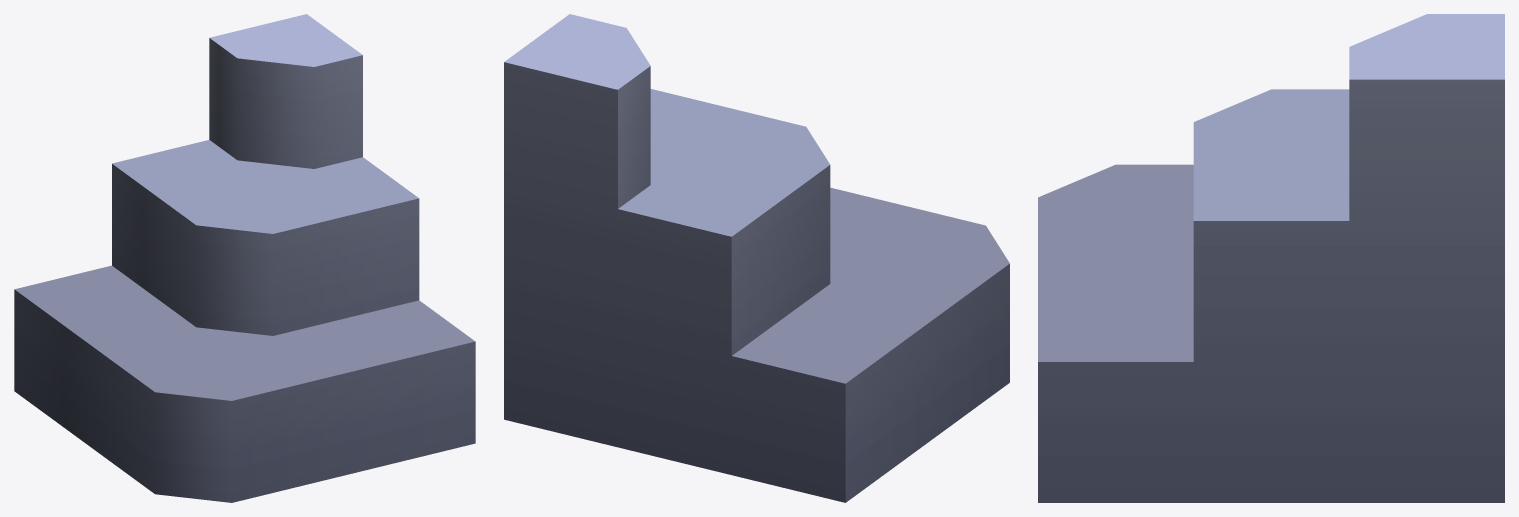
The model's file is kenney-space-station-stairs-small-corner.glb.
The picture shows the model from 3 angles, left to right: view 1: azimuth 30°, elevation 25°; view 2: azimuth 150°, elevation 25°; view 3: azimuth 270°, elevation 25°; orthographic projection. The views are drawn at different scales.
Visible parts, largest first — view 1: stairs-small-corner; view 2: stairs-small-corner; view 3: stairs-small-corner.
Part boxes in pixels (left/top/right/bottom): stairs-small-corner: left=14, top=14, right=475, bottom=502; stairs-small-corner: left=504, top=14, right=1009, bottom=502; stairs-small-corner: left=1038, top=14, right=1504, bottom=502.
Bounding box in the file's own units: 0.3 × 0.3 × 0.3.
1 material, 1 textured.
